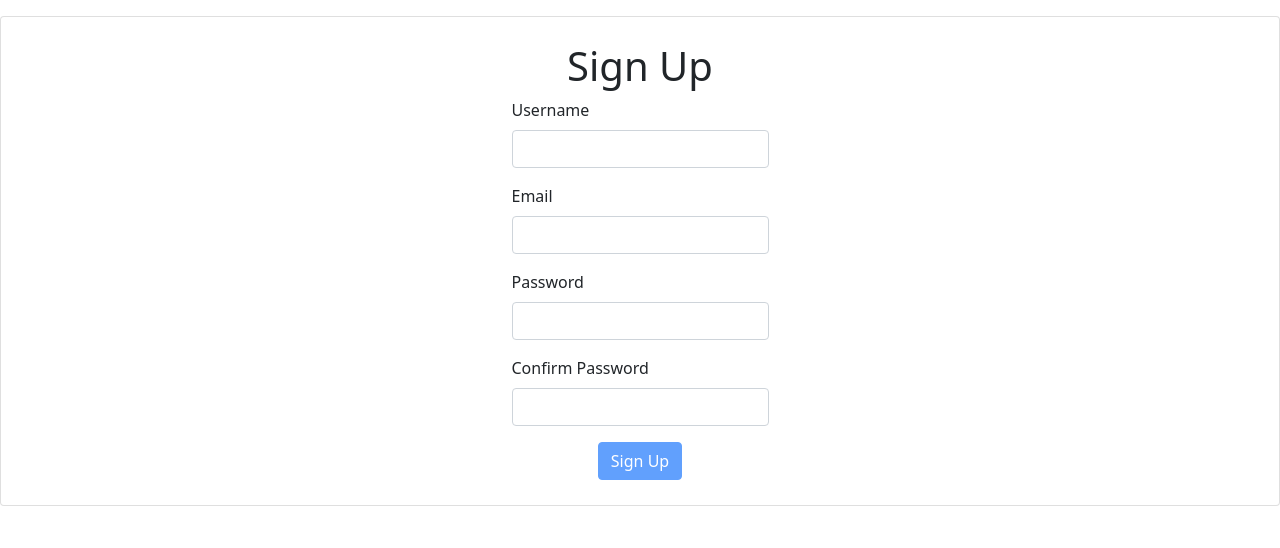
Test case: Sign Up Page › Interactions › displays Password cannot be null for password
The width and height of the screenshot is (1280, 548).
Type "Test User" into the field labelled "Username" at (640, 149), box [512, 130, 768, 168]
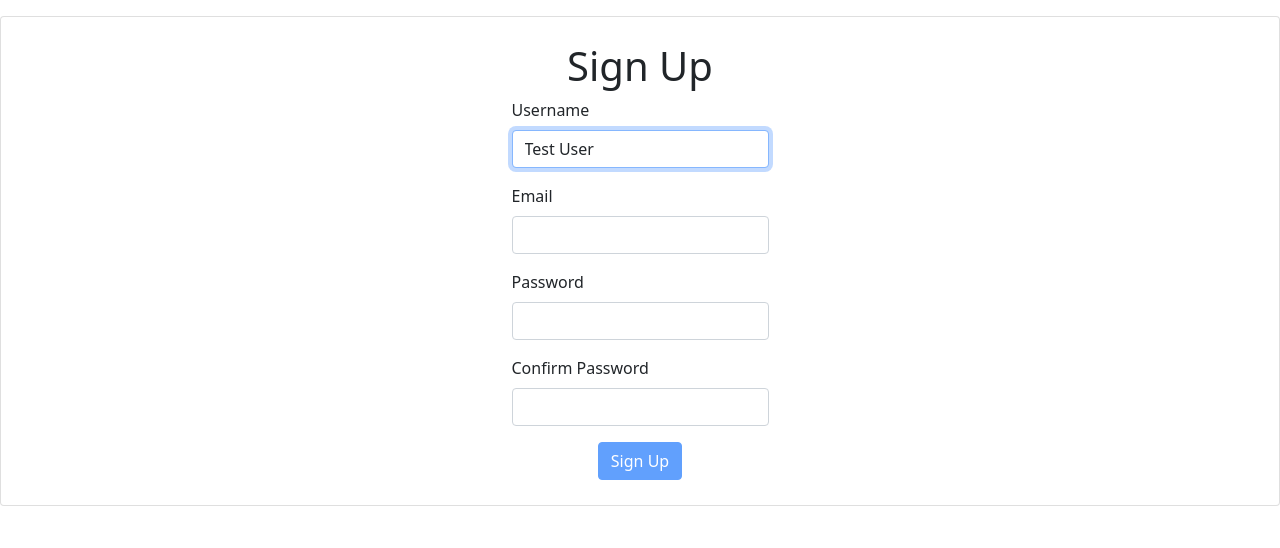
Type "test@test.com" into the field labelled "Email" at (640, 235), box [512, 216, 768, 254]
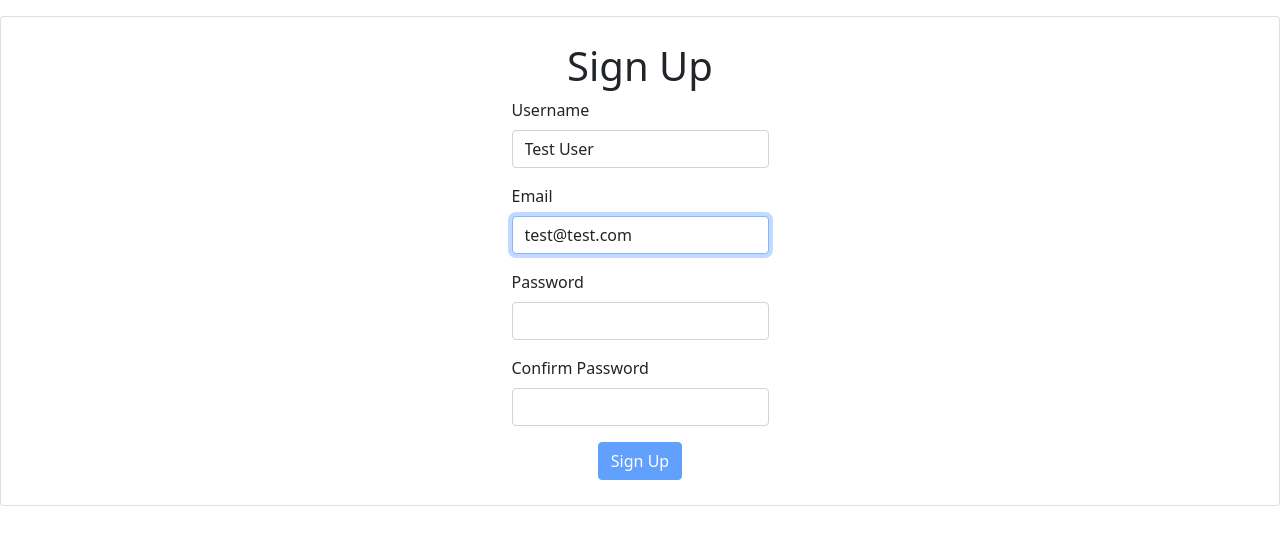
Type "password" into the password field labelled "Password" at (640, 321), box [512, 302, 768, 340]
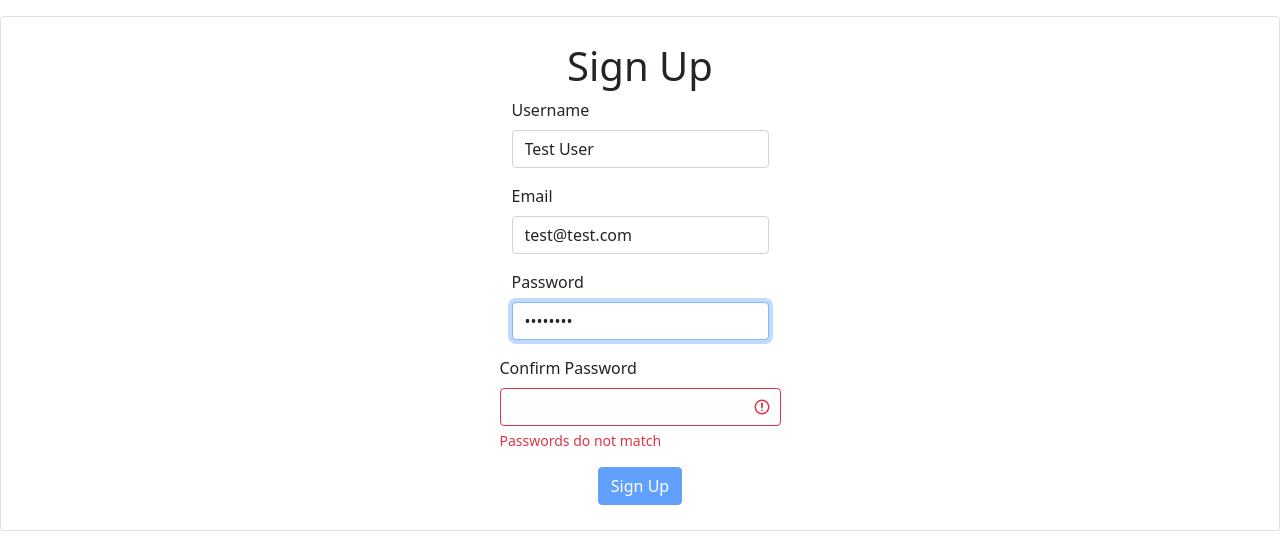
Type "password" into the password field labelled "Confirm Password" at (640, 407), box [500, 388, 780, 426]
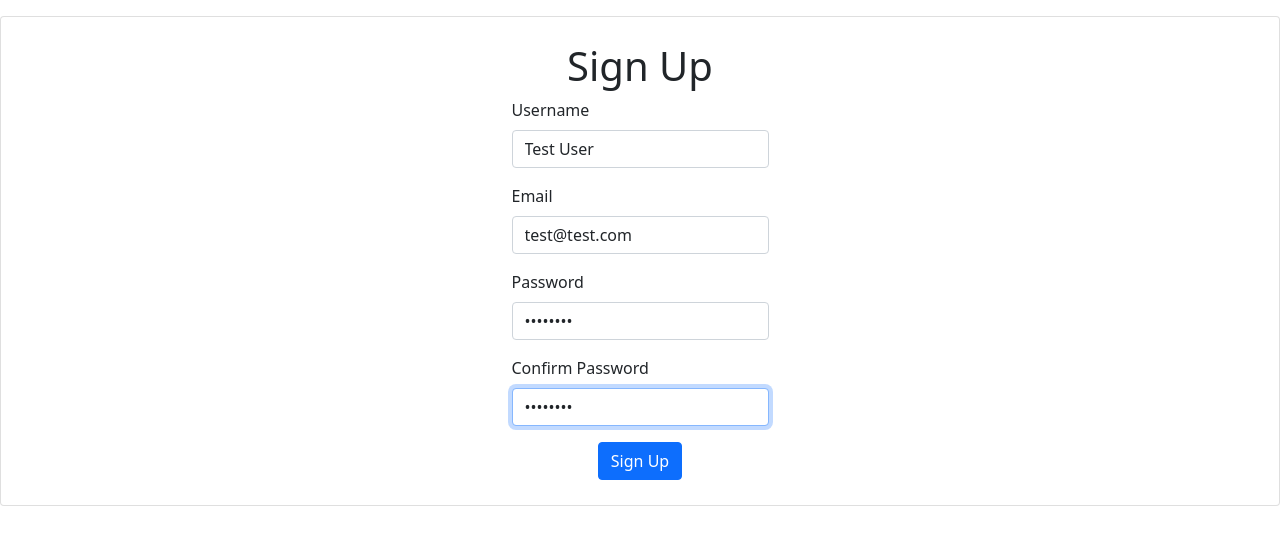
Click the button "Sign Up" at (640, 461), box [598, 442, 682, 480]
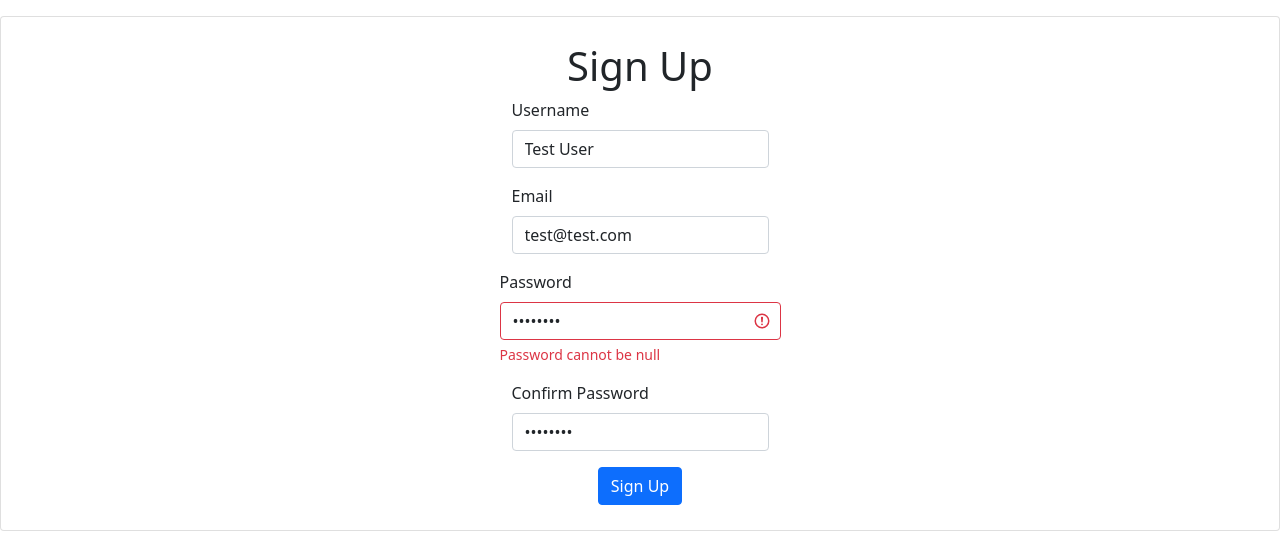
Expected: the text "Password cannot be null" is shown, [500, 345, 660, 364]
